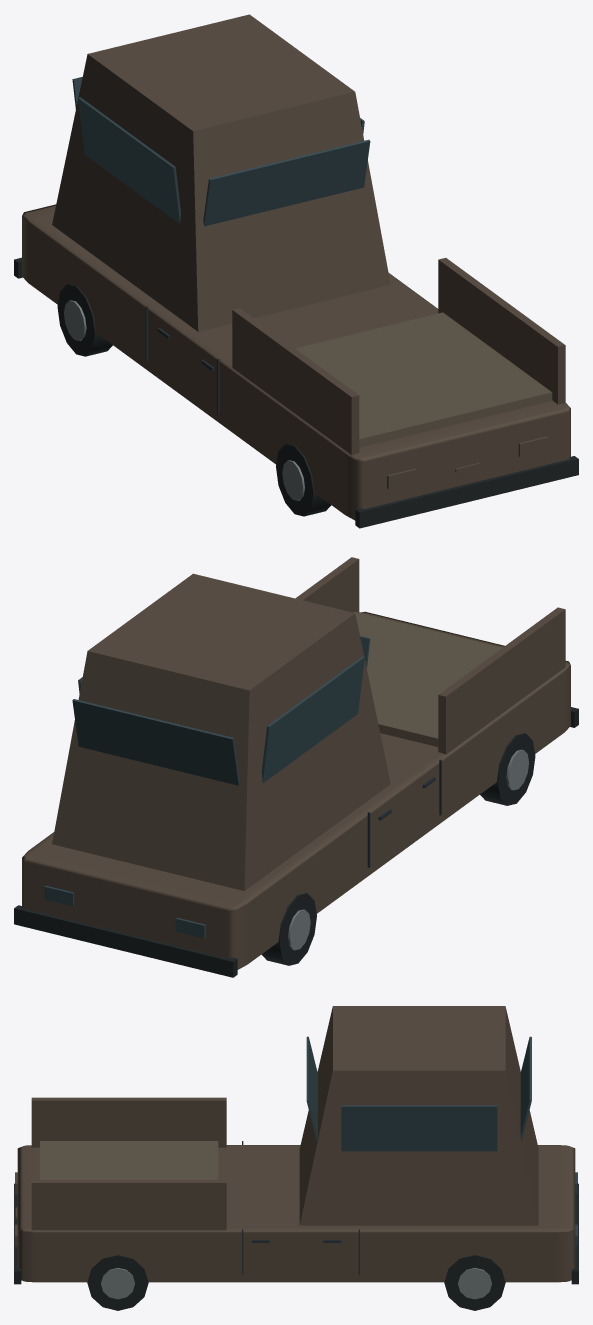
Rendered from small-truck-2.glb.
3 renders of one model, top to bottom at view 1: azimuth 30°, elevation 25°; view 2: azimuth 150°, elevation 25°; view 3: azimuth 270°, elevation 25°, orthographic. The views are drawn at different scales.
Visible parts, largest first — view 1: small-truck/1/KR-230-2; view 2: small-truck/1/KR-230-2; view 3: small-truck/1/KR-230-2.
Part boxes in pixels (bbox=[...]): small-truck/1/KR-230-2: bbox=[14, 14, 578, 528]; small-truck/1/KR-230-2: bbox=[14, 557, 578, 977]; small-truck/1/KR-230-2: bbox=[14, 1006, 578, 1310].
Bounding box in the file's own units: 2.37 × 2.8 × 6.28.
